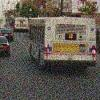buses: (26, 15, 100, 71)
